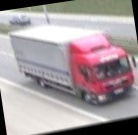truck: (8, 9, 138, 118)
